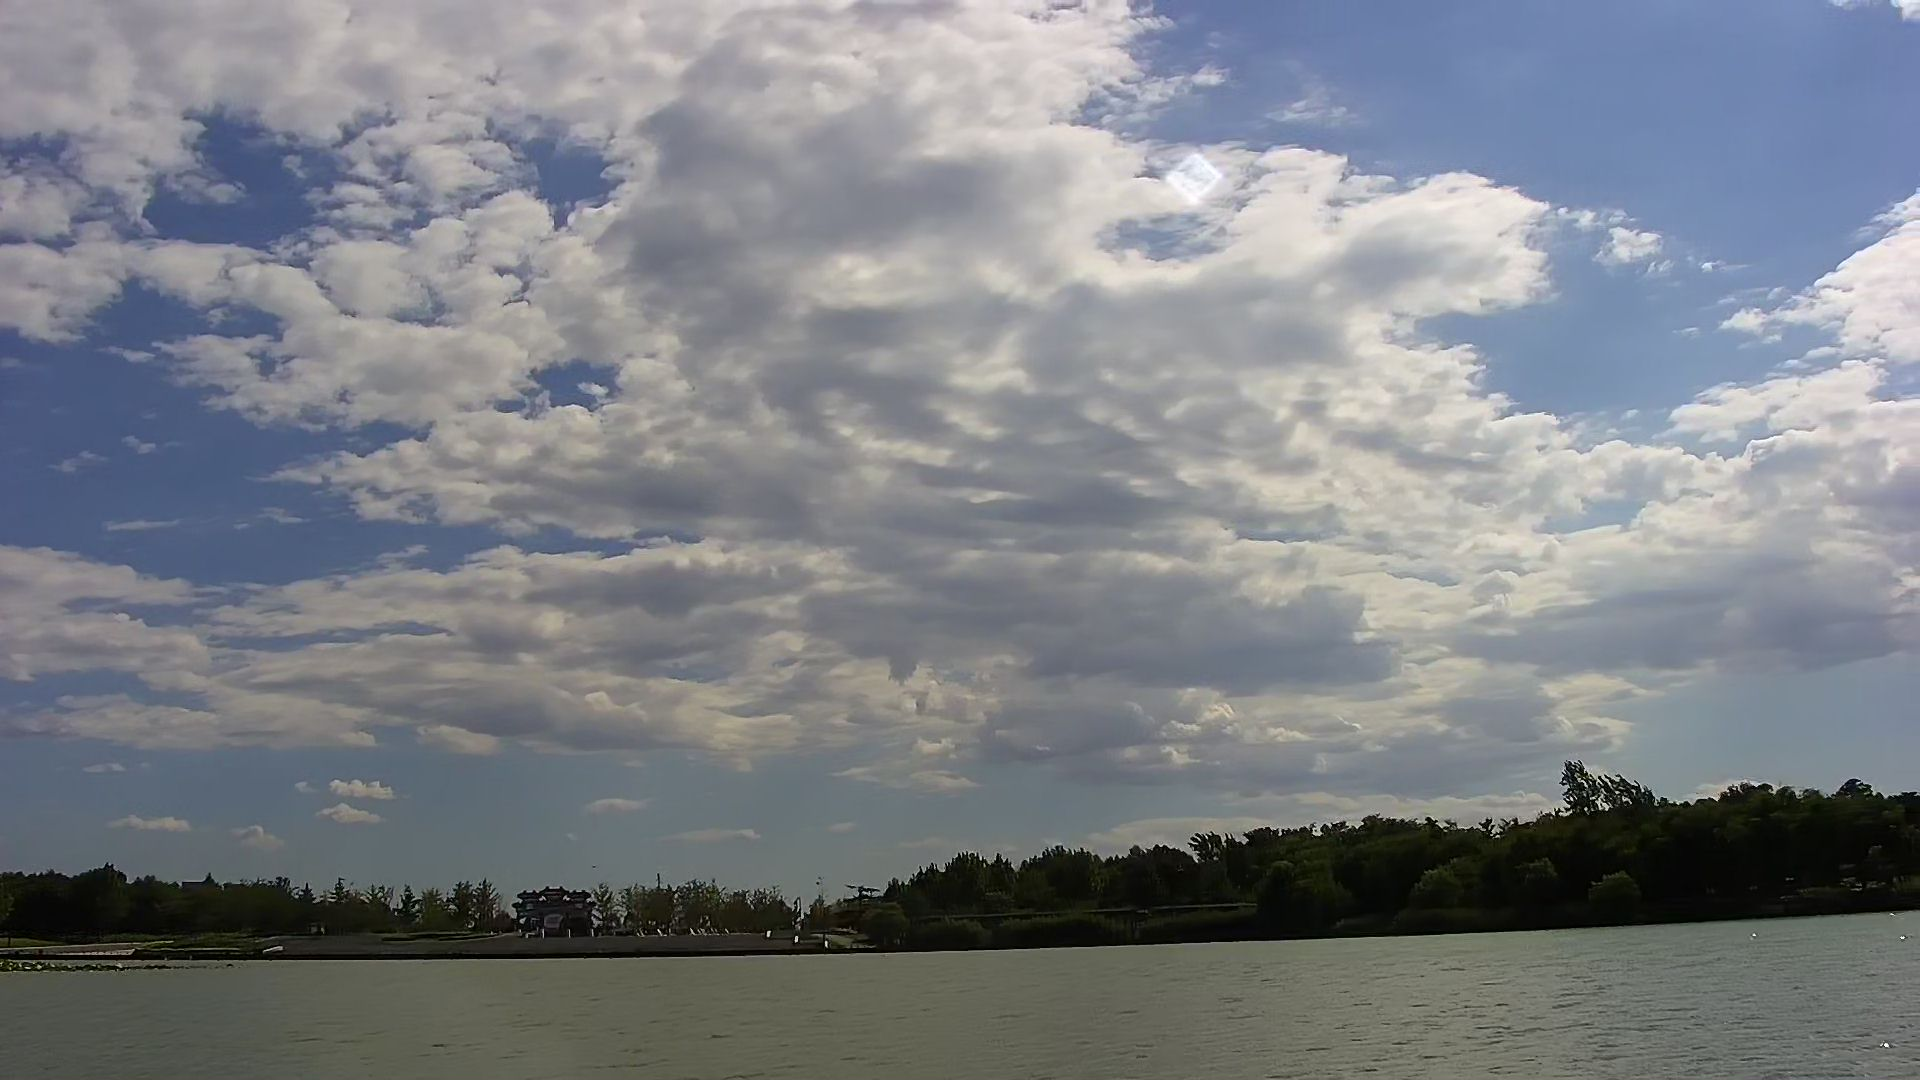harbor: (222, 924, 880, 963)
